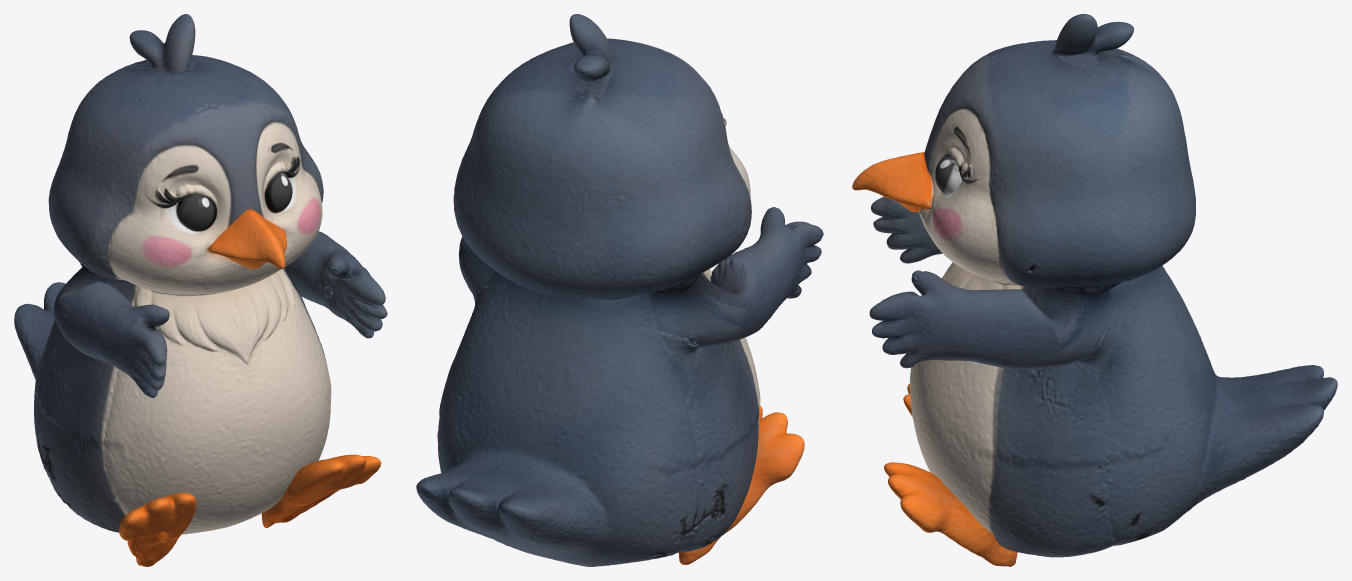
The model's file is Mama Penguin Driving Pose Final.fbx.
3 renders of one model, left to right at view 1: azimuth 30°, elevation 25°; view 2: azimuth 150°, elevation 25°; view 3: azimuth 270°, elevation 25°, orthographic. The views are drawn at different scales.
Visible parts, largest first — view 1: Mesh_0; view 2: Mesh_0; view 3: Mesh_0.
Part boxes in pixels (x1,y1,x2,y2): Mesh_0: [14, 14, 387, 566]; Mesh_0: [416, 14, 823, 566]; Mesh_0: [852, 14, 1337, 566].
Size of the model in its own units: 96.35 by 174 by 141.
Materials: 1 (1 with a texture image).
